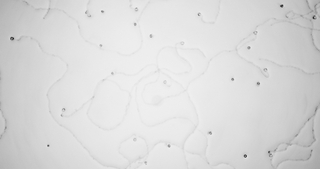germinated: (161, 79, 171, 88), (84, 7, 92, 18), (173, 40, 184, 47), (7, 35, 18, 42), (197, 11, 205, 20), (59, 106, 66, 116), (312, 10, 318, 21), (130, 4, 138, 12), (252, 30, 259, 39), (263, 67, 270, 75), (266, 149, 273, 157)
nongerminated: (206, 129, 214, 136), (98, 8, 105, 16), (147, 32, 154, 39), (143, 159, 150, 166), (44, 142, 51, 149), (278, 2, 285, 8), (245, 44, 252, 50), (255, 80, 262, 86), (229, 76, 236, 82), (241, 152, 248, 158), (98, 42, 104, 49), (165, 143, 172, 149), (131, 136, 138, 142), (109, 71, 116, 76), (132, 22, 138, 27)
